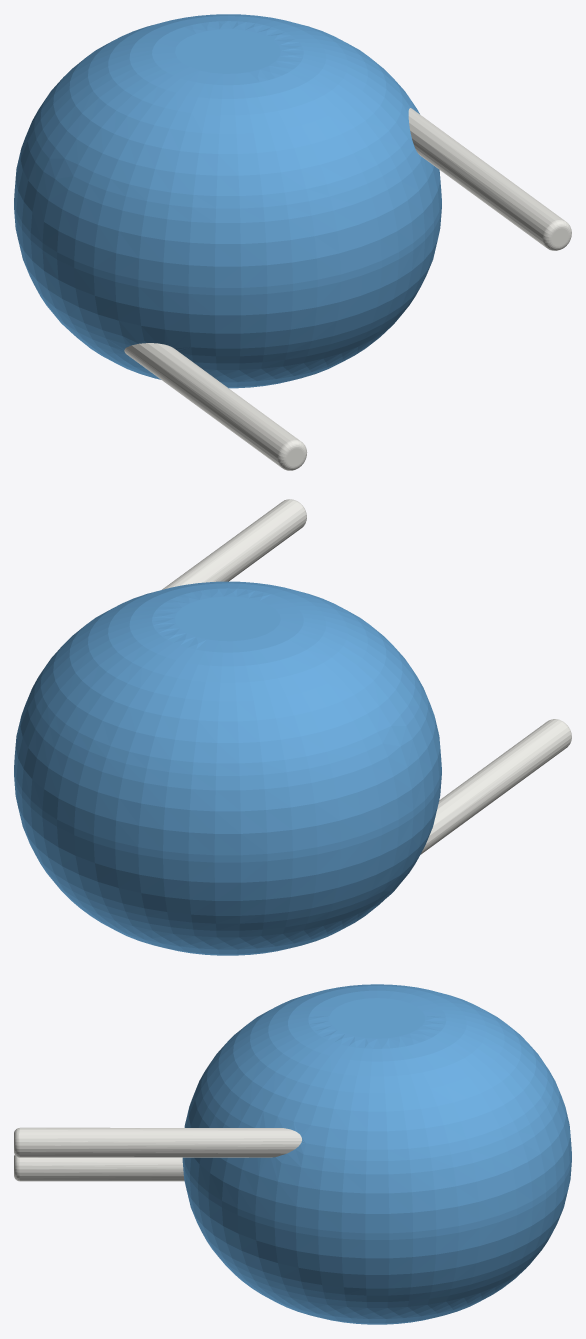
The model's file is RV_Disc_D7mm_W5.4mm_P5mm.glb.
The picture shows the model from 3 angles, top to bottom: view 1: azimuth 30°, elevation 25°; view 2: azimuth 150°, elevation 25°; view 3: azimuth 270°, elevation 25°; orthographic projection. The views are drawn at different scales.
Visible parts, largest first — view 1: Shape_IndexedFaceSet.001, Shape_IndexedFaceSet.002, Shape_IndexedFaceSet.006, Shape_IndexedFaceSet.004, Shape_IndexedFaceSet.003, Shape_IndexedFaceSet; view 2: Shape_IndexedFaceSet.001, Shape_IndexedFaceSet.002, Shape_IndexedFaceSet.006, Shape_IndexedFaceSet.004, Shape_IndexedFaceSet.003, Shape_IndexedFaceSet; view 3: Shape_IndexedFaceSet.001, Shape_IndexedFaceSet.002, Shape_IndexedFaceSet.004, Shape_IndexedFaceSet.006, Shape_IndexedFaceSet.003, Shape_IndexedFaceSet.
Boxes of the visible parts, x1,y1,x2,y2 form: Shape_IndexedFaceSet.001: (14,14,441,287); Shape_IndexedFaceSet.002: (14,208,441,388); Shape_IndexedFaceSet.006: (124,343,299,466); Shape_IndexedFaceSet.004: (408,108,565,246); Shape_IndexedFaceSet.003: (175,29,280,73); Shape_IndexedFaceSet: (14,201,441,295); Shape_IndexedFaceSet.001: (14,581,441,855); Shape_IndexedFaceSet.002: (14,776,441,955); Shape_IndexedFaceSet.006: (420,719,570,854); Shape_IndexedFaceSet.004: (162,499,306,589); Shape_IndexedFaceSet.003: (175,596,280,641); Shape_IndexedFaceSet: (14,768,441,862); Shape_IndexedFaceSet.001: (183,984,571,1233); Shape_IndexedFaceSet.002: (182,1161,571,1324); Shape_IndexedFaceSet.004: (20,1127,301,1157); Shape_IndexedFaceSet.006: (20,1157,184,1181); Shape_IndexedFaceSet.003: (329,998,424,1038); Shape_IndexedFaceSet: (182,1154,571,1239).
Size of the model in its own units: 2.75 by 2.13 by 3.95.
